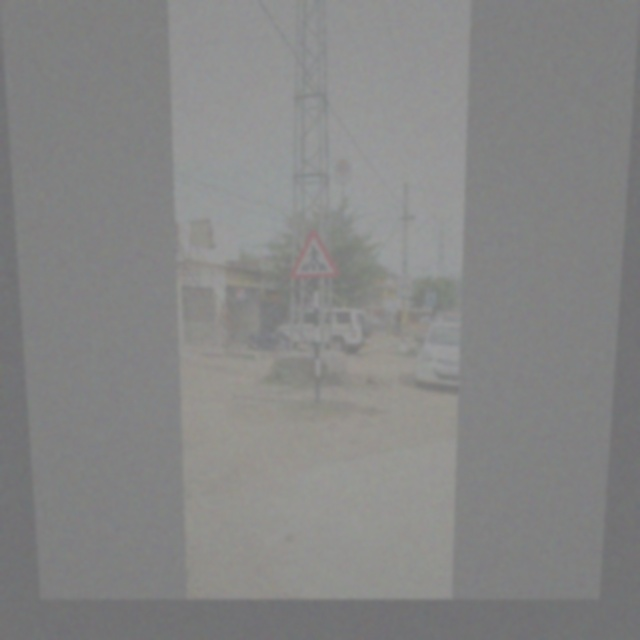Pedestrian_Crossing: (286, 227, 342, 283)
